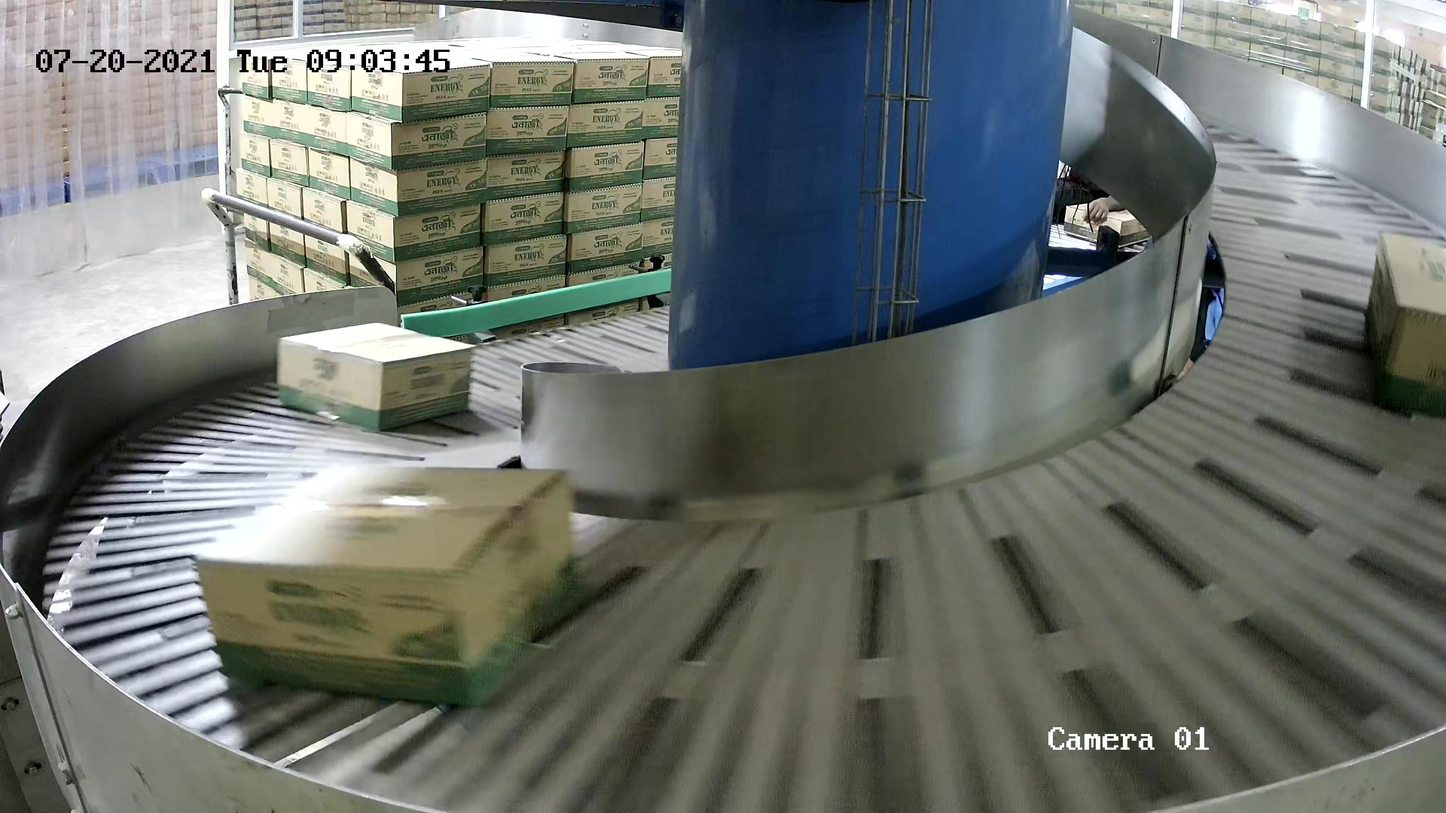Box: (192, 462, 576, 708), (276, 321, 478, 432), (1364, 231, 1446, 415)
